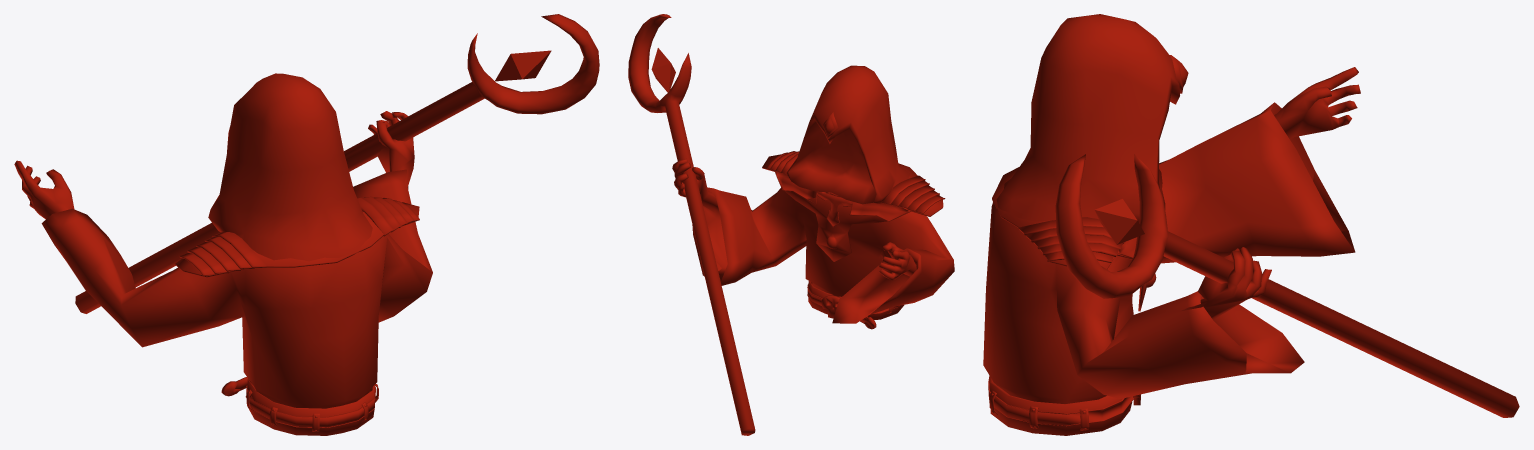
Rendered from top_000016.obj.
3 renders of one model, left to right at view 1: azimuth 30°, elevation 25°; view 2: azimuth 150°, elevation 25°; view 3: azimuth 270°, elevation 25°, orthographic. The views are drawn at different scales.
Visible parts, largest first — view 1: LowPoly_Warlock.000_Plane.005; view 2: LowPoly_Warlock.000_Plane.005; view 3: LowPoly_Warlock.000_Plane.005.
Boxes of the visible parts, bbox=[...] form: LowPoly_Warlock.000_Plane.005: bbox=[14, 14, 599, 435]; LowPoly_Warlock.000_Plane.005: bbox=[628, 14, 954, 435]; LowPoly_Warlock.000_Plane.005: bbox=[983, 14, 1519, 435].
Bounding box in the file's own units: 1.61 × 1.18 × 1.35.
